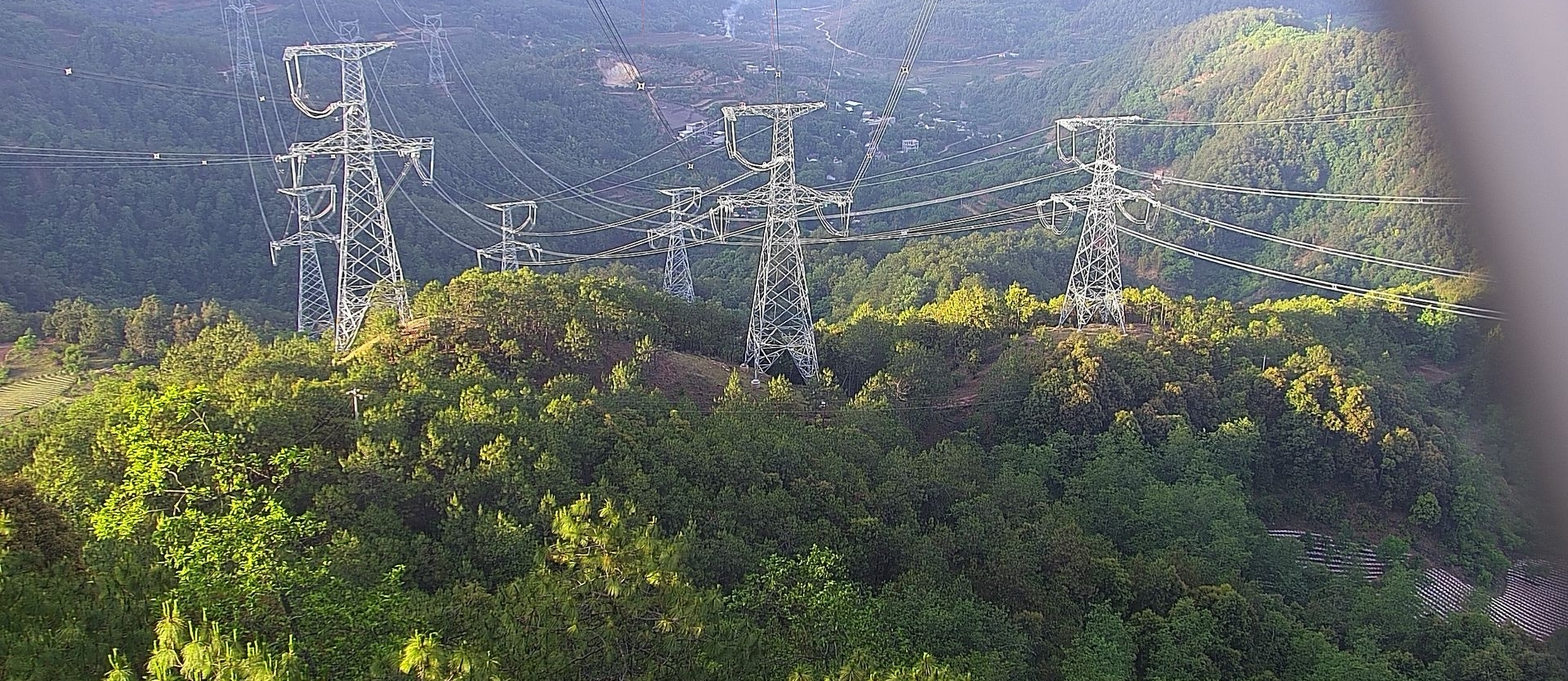烟雾: (705, 0, 749, 38)
